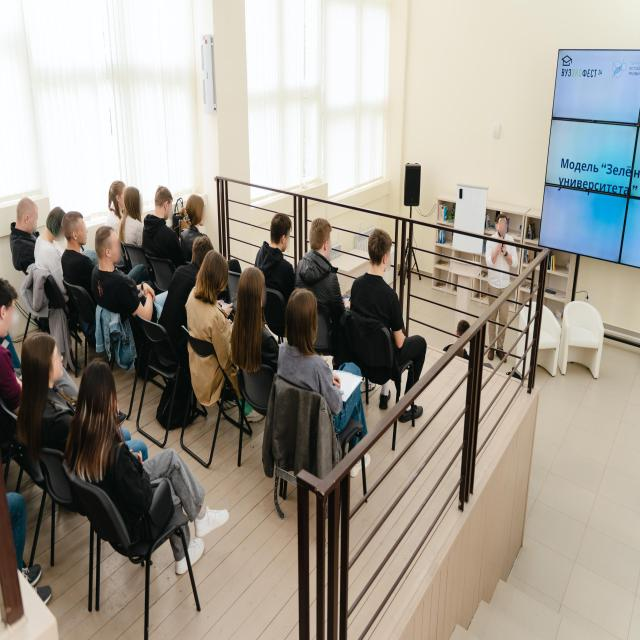Person: (72, 363, 232, 593), (347, 226, 430, 427), (18, 330, 84, 459), (188, 246, 238, 416), (284, 282, 338, 407), (232, 268, 278, 402), (0, 271, 31, 431), (484, 208, 512, 364), (247, 208, 300, 286), (297, 220, 343, 302), (173, 184, 215, 262), (62, 204, 98, 294), (97, 230, 127, 316), (102, 172, 136, 236), (123, 184, 151, 257), (45, 196, 65, 293), (146, 185, 178, 245), (13, 190, 39, 262)
